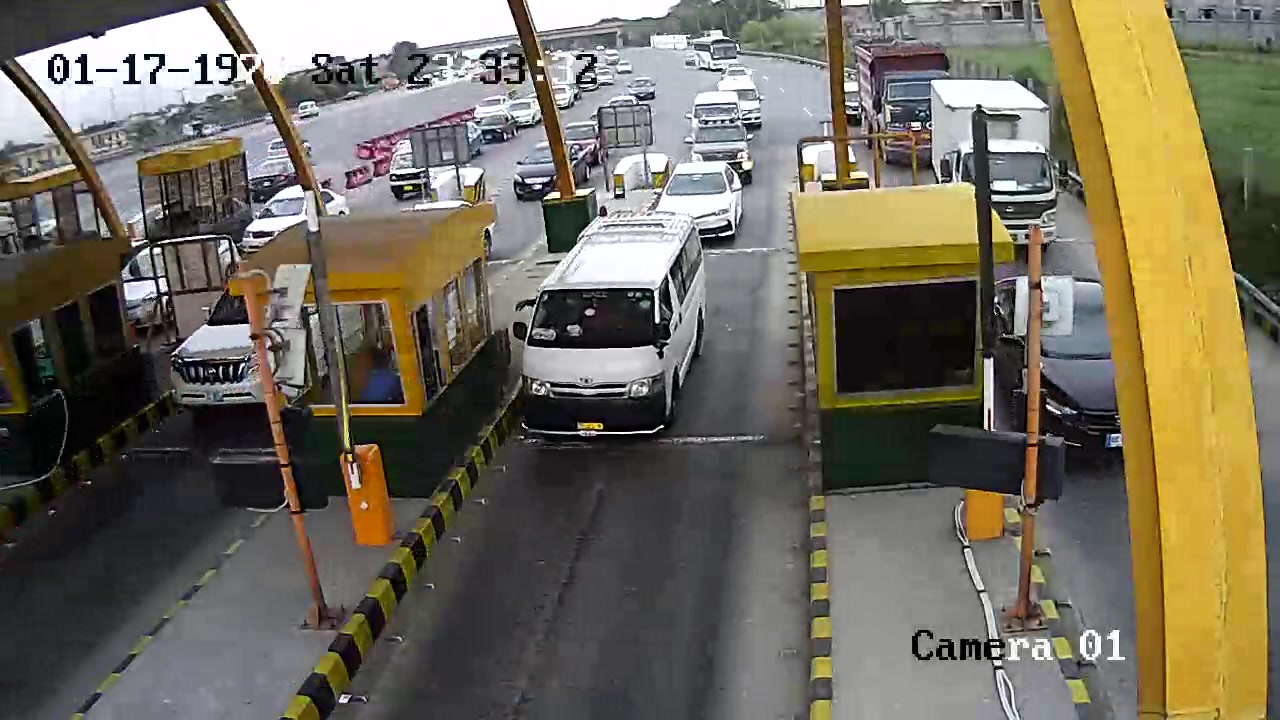F3: (515, 209, 707, 447)
